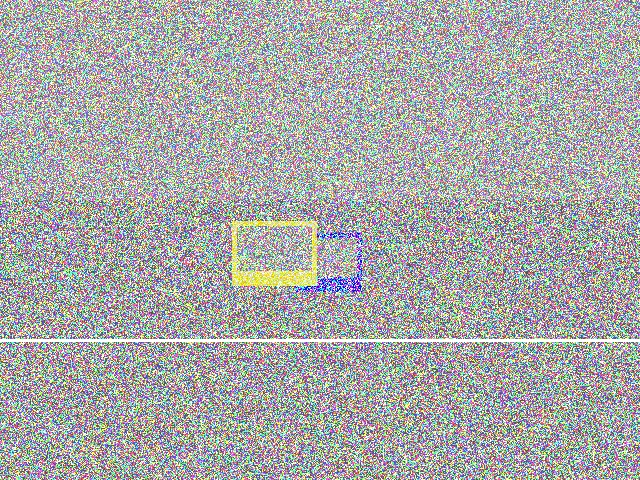bus: (291, 126, 468, 193)
